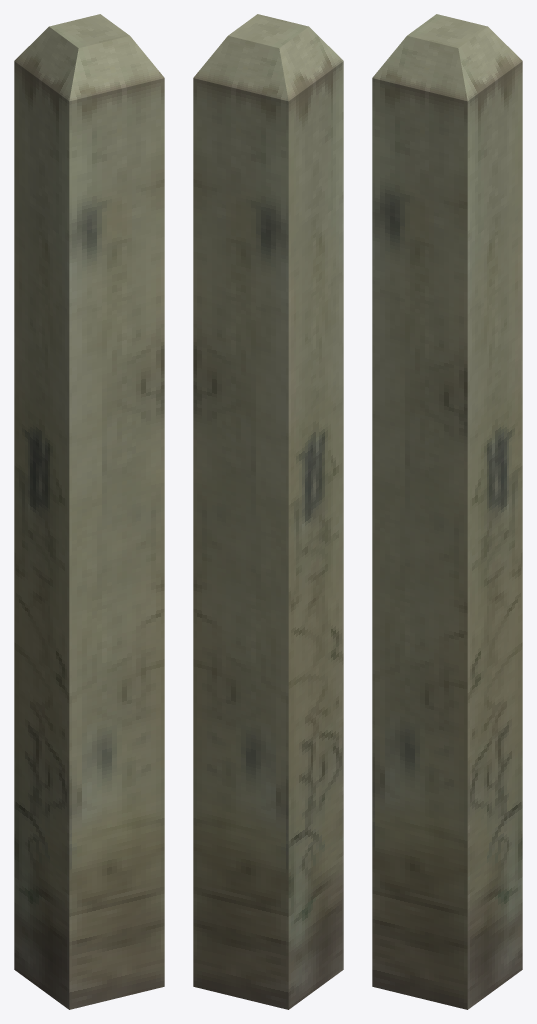
File: FencePillar.glb
3 views of the same model, side by side, from view 1: azimuth 30°, elevation 25°; view 2: azimuth 150°, elevation 25°; view 3: azimuth 330°, elevation 25° (orthographic).
Parts seen in each view (by area): view 1: Pillar; view 2: Pillar; view 3: Pillar.
Boxes of the visible parts, x1=… form: Pillar: x1=14, y1=14, x2=164, y2=1009; Pillar: x1=193, y1=14, x2=343, y2=1009; Pillar: x1=372, y1=14, x2=522, y2=1009.
Bounding box in the file's own units: 0.2292 × 2.17 × 0.2292.
Materials: 1 (1 with a texture image).
